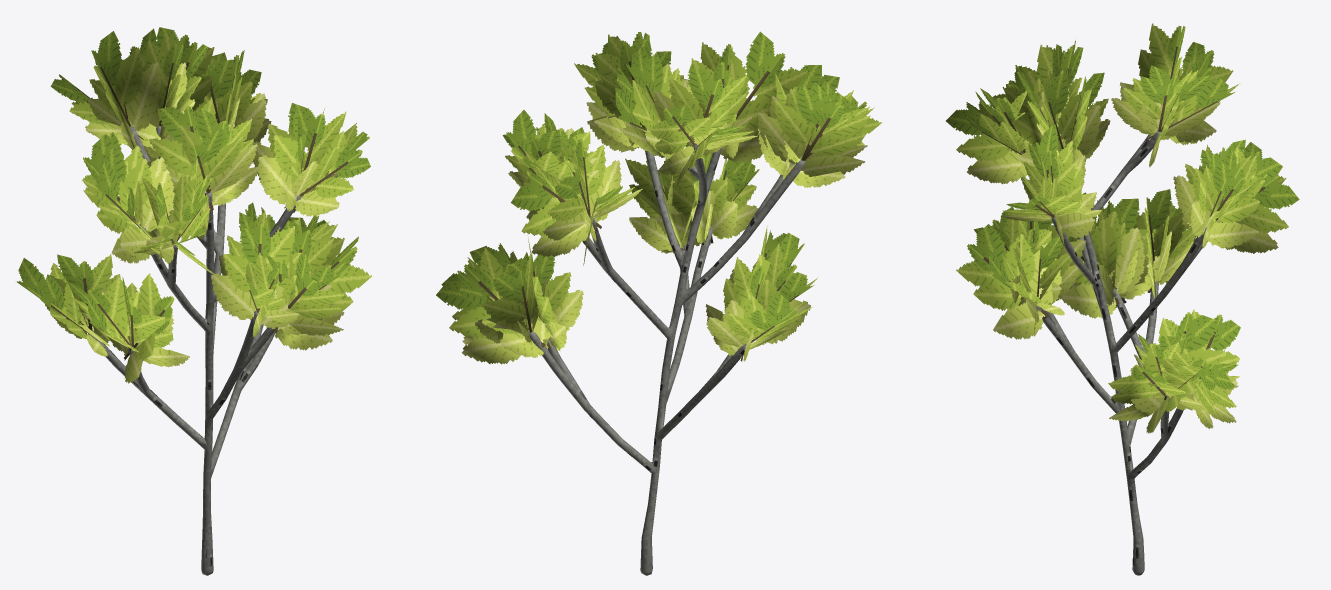
The model's file is environment_elmsapling5_v9.fbx.
The picture shows the model from 3 angles, left to right: view 1: azimuth 30°, elevation 25°; view 2: azimuth 150°, elevation 25°; view 3: azimuth 270°, elevation 25°; orthographic projection. The views are drawn at different scales.
Parts seen in each view (by area): view 1: environment_elmsapling5_v9_leaves, environment_elmsapling5_v9_wood; view 2: environment_elmsapling5_v9_leaves, environment_elmsapling5_v9_wood; view 3: environment_elmsapling5_v9_leaves, environment_elmsapling5_v9_wood.
Part boxes in pixels (box(x1,y1,x2,y2)): environment_elmsapling5_v9_leaves: box(17, 27, 371, 383); environment_elmsapling5_v9_wood: box(88, 126, 300, 575); environment_elmsapling5_v9_leaves: box(436, 31, 881, 364); environment_elmsapling5_v9_wood: box(529, 144, 805, 575); environment_elmsapling5_v9_leaves: box(946, 23, 1299, 433); environment_elmsapling5_v9_wood: box(1036, 130, 1206, 575).
Bounding box in the file's own units: 161 × 226 × 151.
2 materials, 2 textured.
